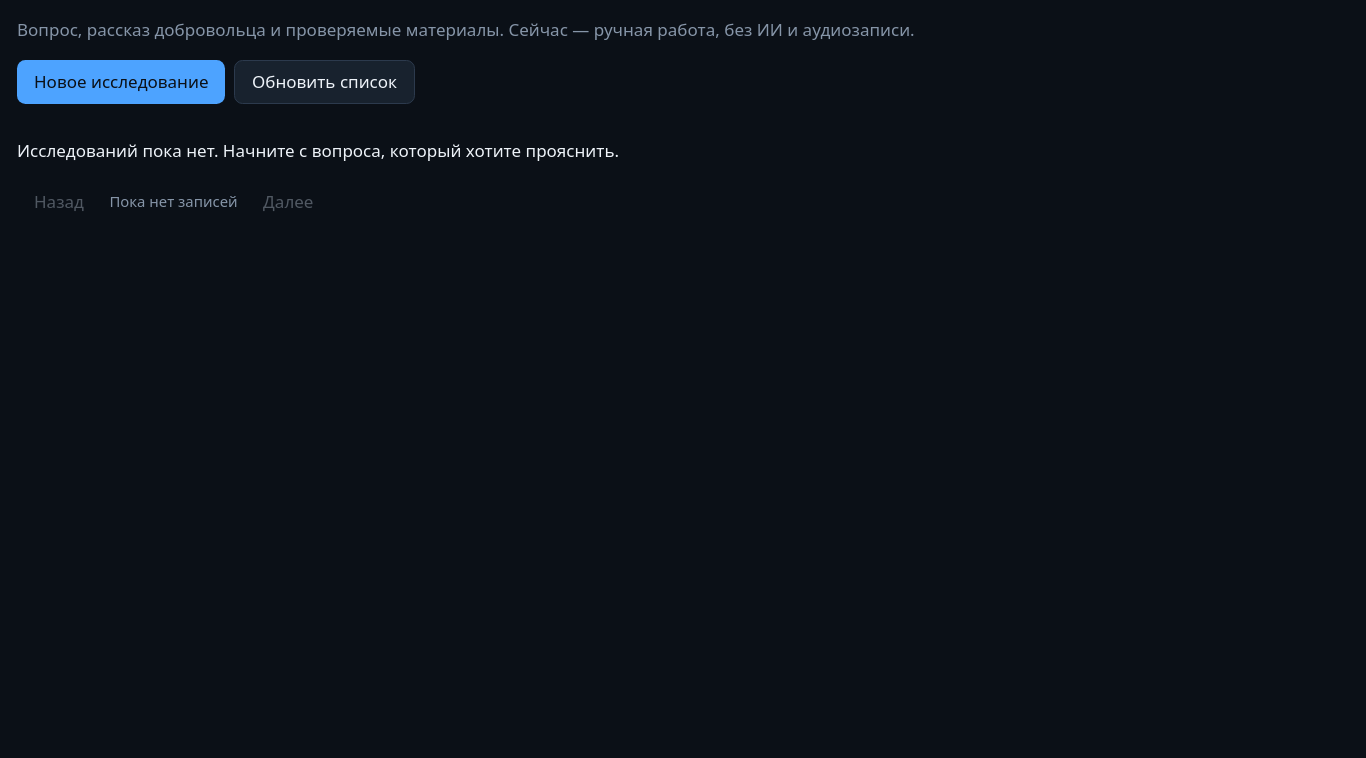
Test: Консилиум: ручное исследование Т1 › создаёт дело только кнопкой, без расчётов и чувствительного localStorage
expect the text "Исследований пока нет" is shown: met, box [17, 139, 619, 162]
Click the button "Новое исследование" at x=121, y=82, box [17, 60, 226, 104]
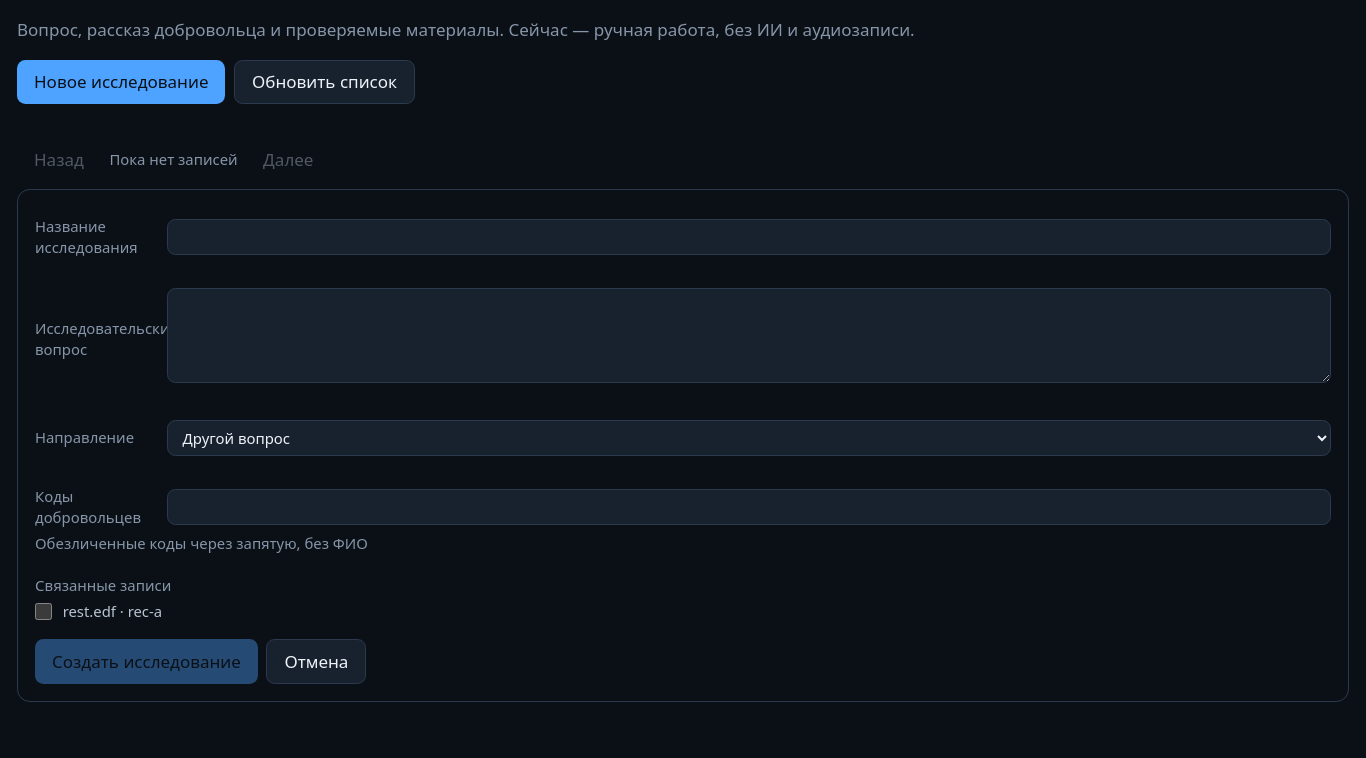
Type "Новое дело" into the field labelled "Название исследования" at x=749, y=237, box [167, 219, 1331, 255]
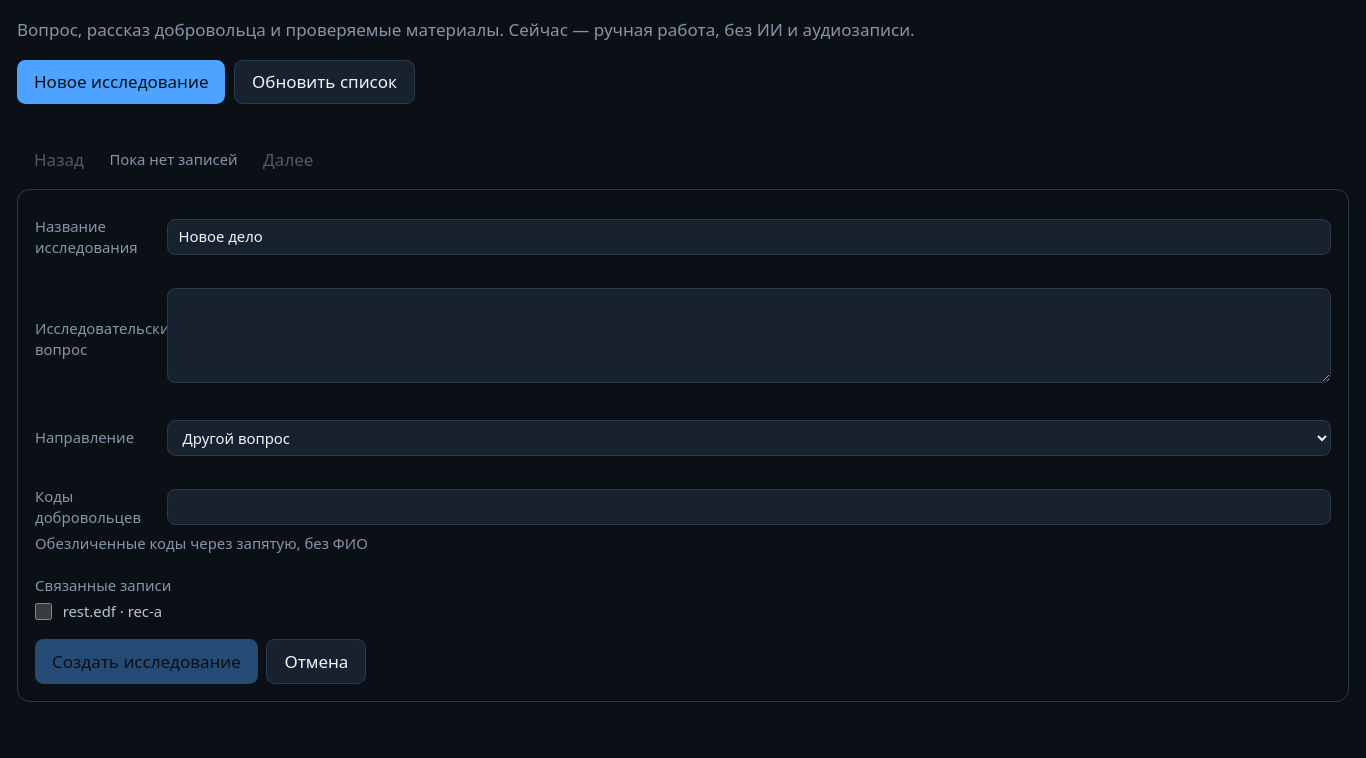
Type "Что менялось?" into the text box labelled "Исследовательский вопрос" at x=749, y=336, box [167, 288, 1331, 383]
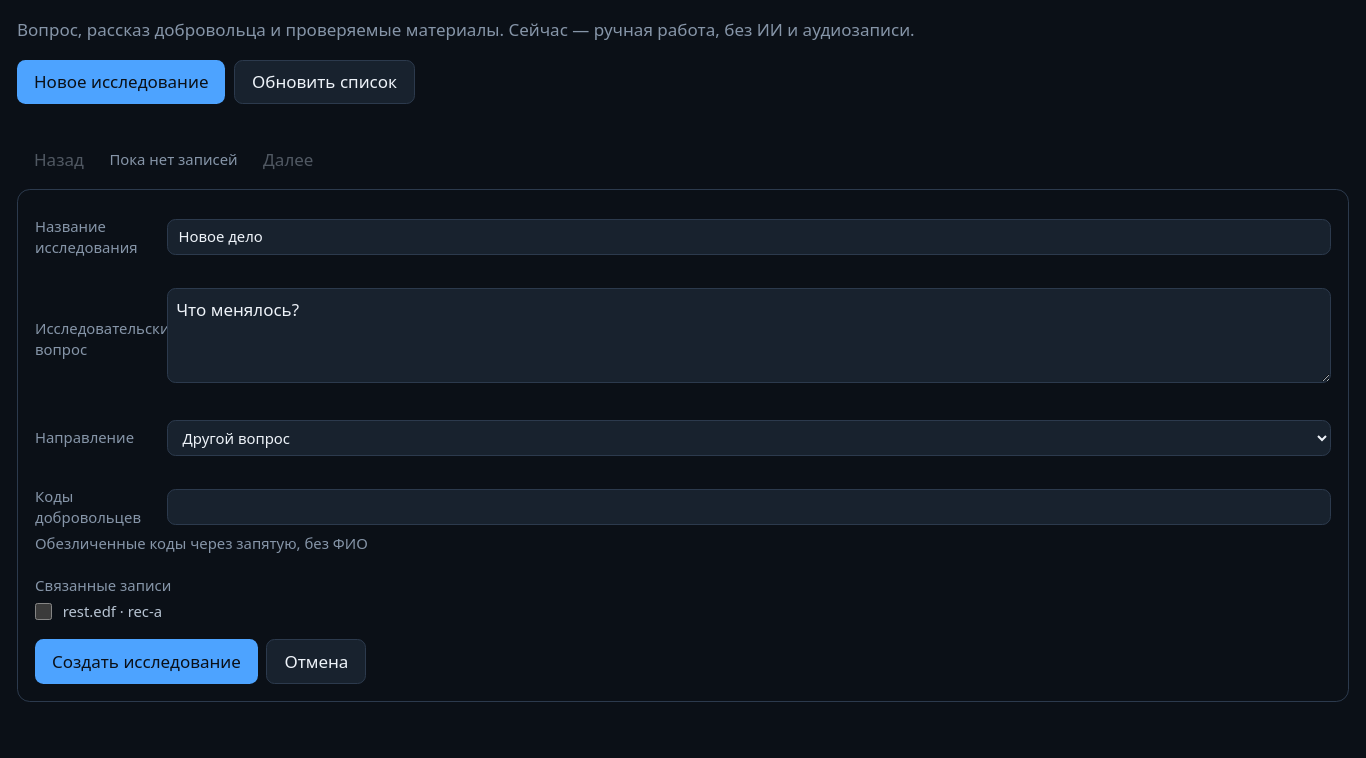
Click the button "Создать исследование" at x=146, y=661, box [35, 639, 258, 684]
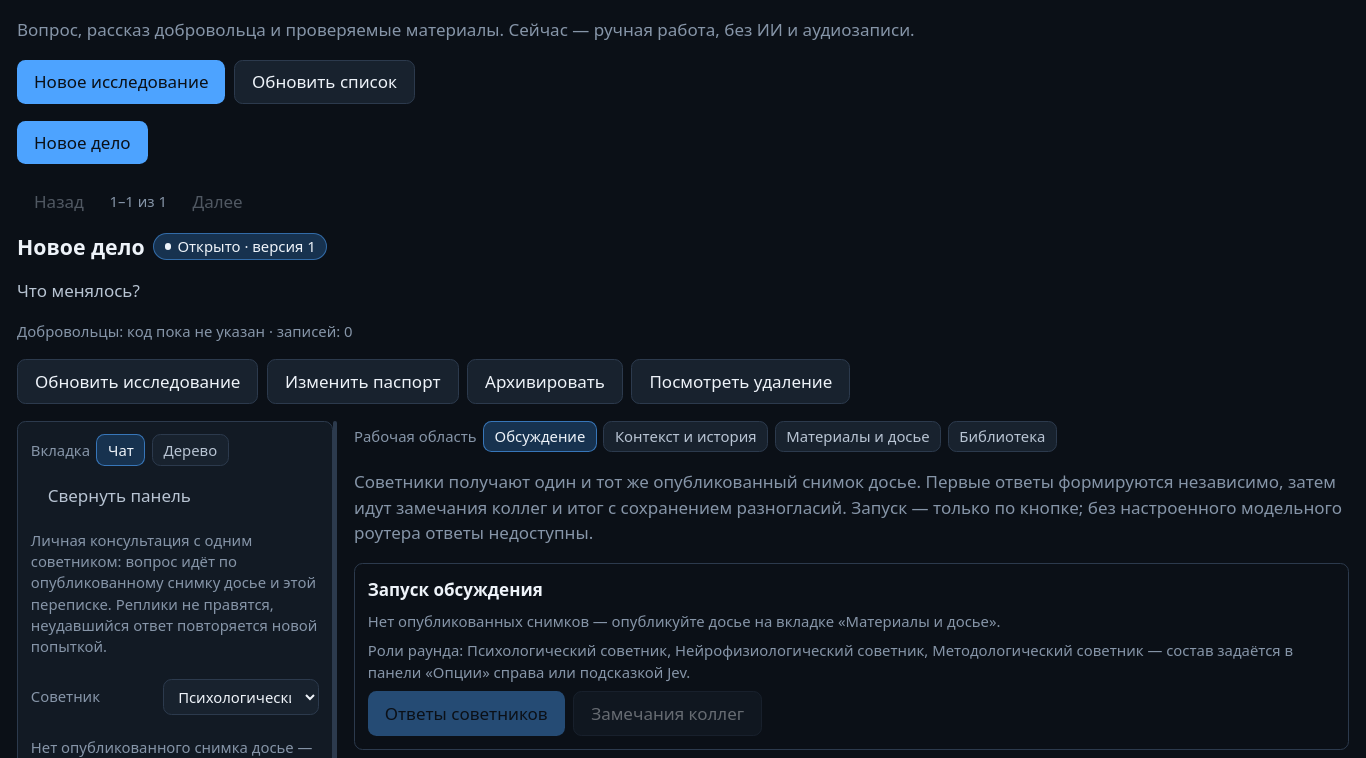
expect the heading "Новое дело" is shown: met, box [17, 232, 144, 261]
